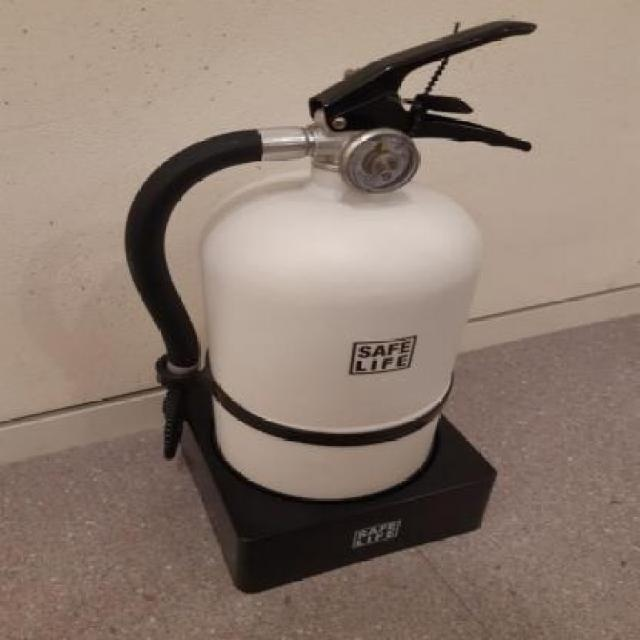fire extinguisher: (125, 17, 538, 498)
